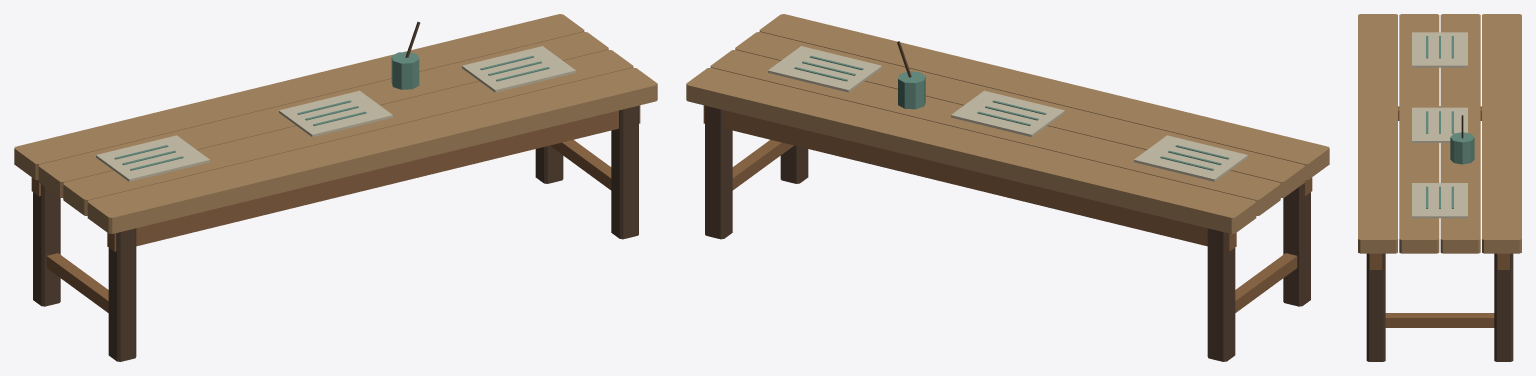
File: table_council.glb
3 renders of one model, left to right at view 1: azimuth 30°, elevation 25°; view 2: azimuth 150°, elevation 25°; view 3: azimuth 270°, elevation 25°, orthographic. The views are drawn at different scales.
Visible parts, largest first — view 1: geometry; view 2: geometry; view 3: geometry.
Boxes of the visible parts, left/top/right/bottom form: geometry: left=14, top=14, right=657, bottom=361; geometry: left=686, top=14, right=1329, bottom=361; geometry: left=1358, top=14, right=1521, bottom=361.
Bounding box in the file's own units: 2.85 × 1.05 × 0.874.
